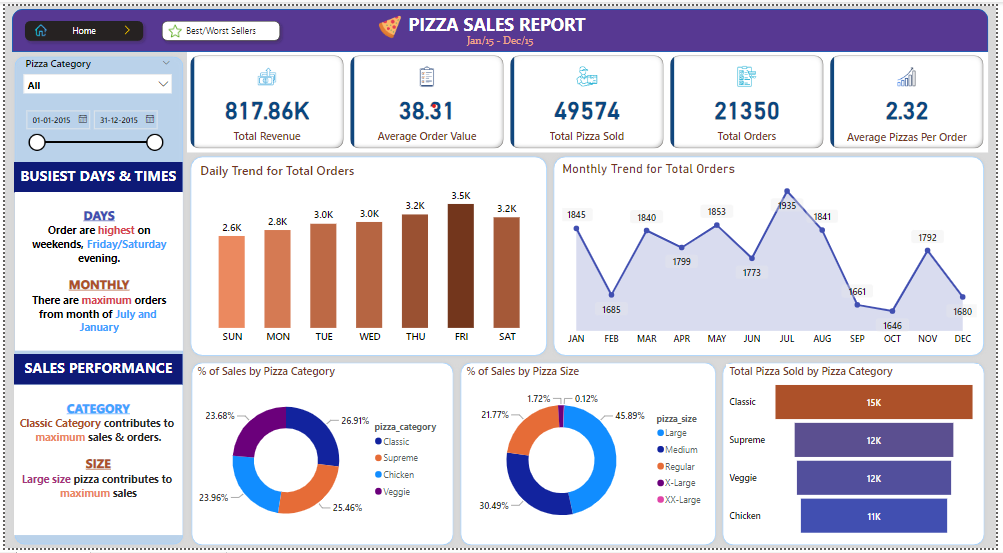

Layout of this report page (visuals, bound fields, positions):
{"tool":"powerbi","page":{"name":"Home","canvas":[1500,820],"ordinal":0},"visuals":[{"type":"cardVisual","fields":{"Data":["pizza_sales.Total Revenue","pizza_sales.Average Order Value","pizza_sales.Total Pizza Sold","pizza_sales.Total Orders","pizza_sales.Average Pizzas Per Order"]},"box":[275,70,1211.7,151.7],"z":0},{"type":"shape","box":[10,5,1476.7,65],"z":1000},{"type":"textbox","box":[605,5,286.7,46.7],"z":2000},{"type":"textbox","box":[683.3,38.3,130,31.7],"z":3000},{"type":"shape","box":[8.6,71.4,265.7,748.6],"z":4000},{"type":"shape","box":[275,221.7,550,311.7],"z":5000,"group":"g1"},{"type":"image","box":[560,8.3,45,45],"z":5000},{"type":"columnChart","title":"Daily Trend for Total Orders","fields":{"Category":["pizza_sales.Order Day"],"Y":["pizza_sales.Total Orders"]},"box":[290,235,523.3,285],"z":6000,"group":"g1"},{"type":"shape","box":[825,221.7,661.7,311.7],"z":6000},{"type":"areaChart","title":"Monthly Trend for Total Orders","fields":{"Y":["pizza_sales.Total Orders"],"Category":["pizza_sales.Order Month"]},"box":[838.3,235,636.7,286.7],"z":7000},{"type":"shape","box":[276.7,533.3,406.7,286.7],"z":8000},{"type":"shape","box":[683.3,533.3,396.7,286.7],"z":9000},{"type":"shape","box":[1080,533.3,406.7,286.7],"z":10000},{"type":"donutChart","title":"% of Sales by Pizza Category","fields":{"Category":["pizza_sales.pizza_category"],"Y":["pizza_sales.Total Revenue"]},"box":[286.2,541.5,387.2,270.2],"z":11000},{"type":"donutChart","title":"% of Sales by Pizza Size","fields":{"Y":["pizza_sales.Total Revenue"],"Category":["pizza_sales.pizza_size"]},"box":[692.6,541.5,377.7,270.2],"z":12000},{"type":"funnel","title":"Total Pizza Sold by Pizza Category","fields":{"Category":["pizza_sales.pizza_category"],"Y":["pizza_sales.Total Pizza Sold"]},"box":[1091.5,541.5,383,266],"z":13000},{"type":"group","id":"g1","title":"Group 1","box":[275,221.7,550,311.7],"z":14000},{"type":"textbox","box":[14,235.7,255,45.7],"z":15000},{"type":"textbox","box":[14.4,281.1,254.4,240],"z":16000},{"type":"textbox","box":[14,527,255,45.7],"z":17000},{"type":"textbox","box":[14,574,255,227.1],"z":18000},{"type":"pageNavigator","box":[21,13.1,404.5,48.9],"z":20500},{"type":"image","box":[236.9,22.2,39.8,29.5],"z":21000},{"type":"image","box":[167.6,24.4,33,24.4],"z":22000},{"type":"image","box":[36.4,23.3,35.8,28.4],"z":28500},{"type":"slicer","fields":{"Values":["pizza_sales.pizza_category"]},"box":[18.9,71.1,244.4,61.1],"z":28501},{"type":"slicer","fields":{"Values":["pizza_sales.order_date"]},"box":[20,147.8,227.8,74.4],"z":28502}]}

Visuals, with their boxes in screenshot pixels (x1, y1, x2, y2), scaled from the page's 1500x820 canvas onto the 1003x553 screenshot:
cardVisual - pizza_sales.Total Revenue x pizza_sales.Average Order Value: [184, 47, 994, 150]
shape: [7, 3, 994, 47]
textbox: [405, 3, 596, 35]
textbox: [457, 26, 544, 47]
shape: [6, 48, 183, 552]
shape: [184, 150, 552, 360]
image: [374, 6, 405, 36]
"Daily Trend for Total Orders" columnChart: [194, 158, 544, 351]
shape: [552, 150, 994, 360]
"Monthly Trend for Total Orders" areaChart: [561, 158, 986, 352]
shape: [185, 360, 457, 552]
shape: [457, 360, 722, 552]
shape: [722, 360, 994, 552]
"% of Sales by Pizza Category" donutChart: [191, 365, 450, 547]
"% of Sales by Pizza Size" donutChart: [463, 365, 716, 547]
"Total Pizza Sold by Pizza Category" funnel: [730, 365, 986, 545]
"Group 1" group: [184, 150, 552, 360]
textbox: [9, 159, 180, 190]
textbox: [10, 190, 180, 351]
textbox: [9, 355, 180, 386]
textbox: [9, 387, 180, 540]
pageNavigator: [14, 9, 285, 42]
image: [158, 15, 185, 35]
image: [112, 16, 134, 33]
image: [24, 16, 48, 35]
slicer - pizza_sales.pizza_category: [13, 48, 176, 89]
slicer - pizza_sales.order_date: [13, 100, 166, 150]
